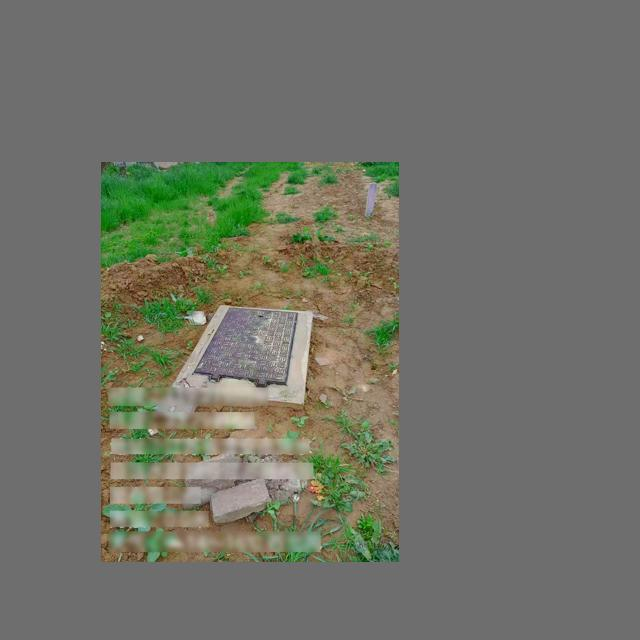good: (191, 303, 301, 393)
